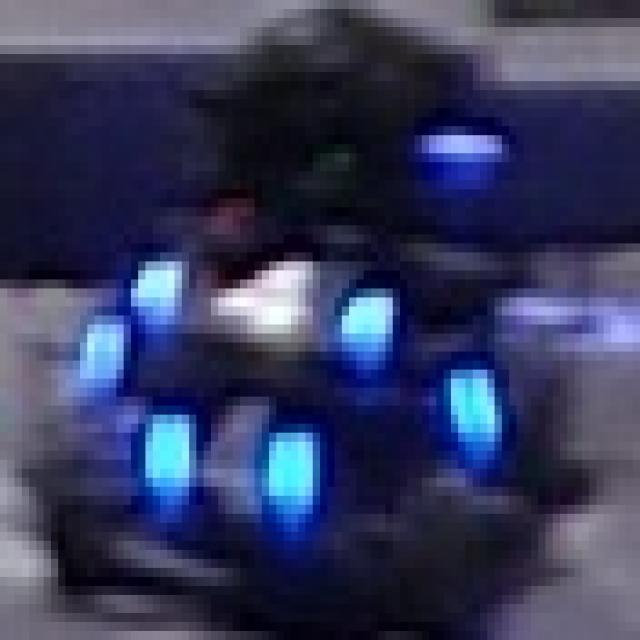B4: (131, 208, 400, 352), (138, 378, 327, 541)
